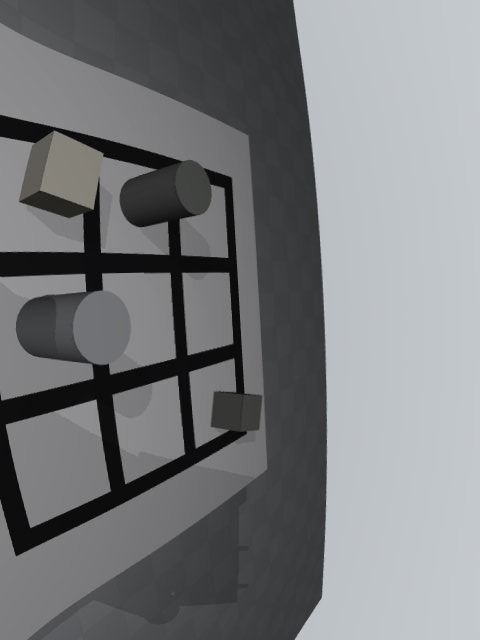can: (16, 291, 131, 365)
cube: (211, 392, 263, 432)
cylinder: (119, 160, 212, 227)
foam: (19, 130, 104, 218)
